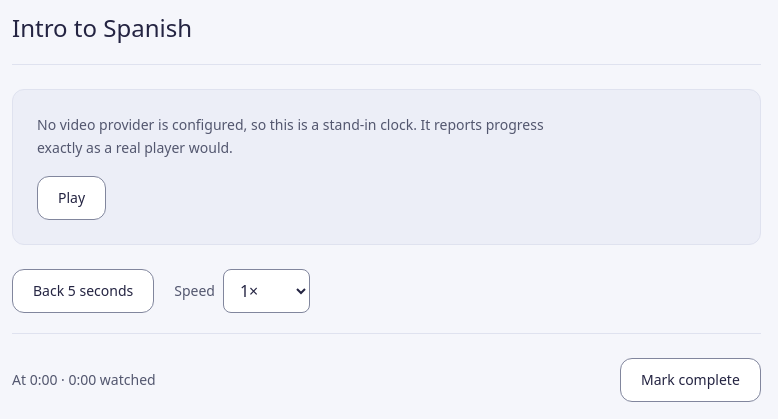
Test: completion › shows completion only after the server confirms it
The image size is (778, 419).
Click the button "Mark complete": [690, 380] box [620,358,761,402]
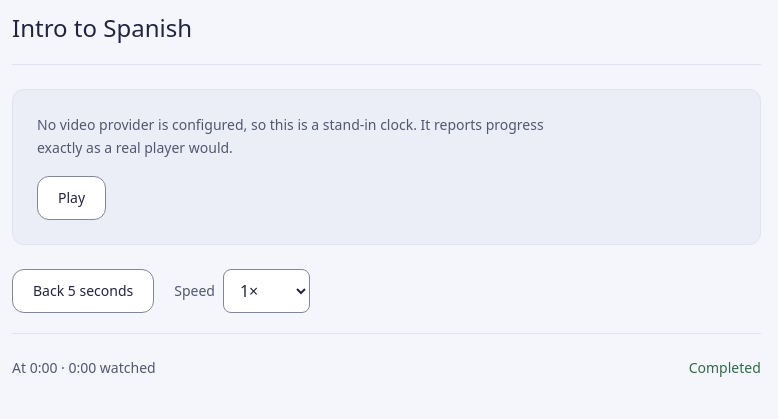
Result: the text "Completed" is shown at [689,358,761,378]
